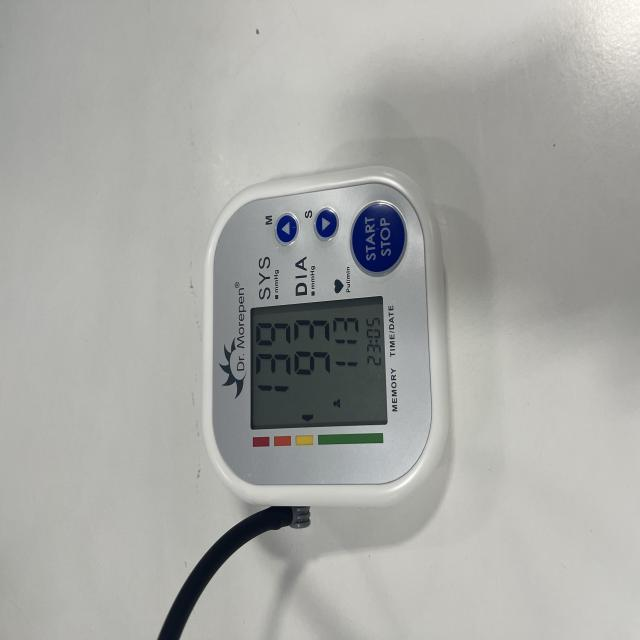bp: (198, 166, 447, 510)
